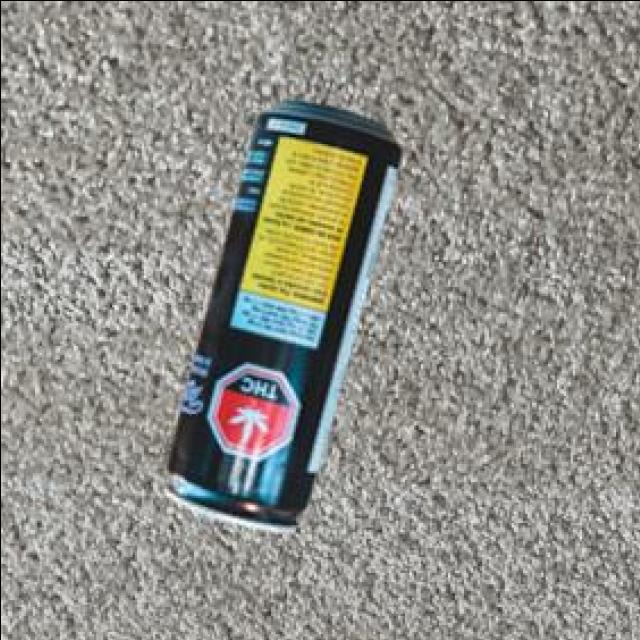logam: (167, 103, 405, 534)
